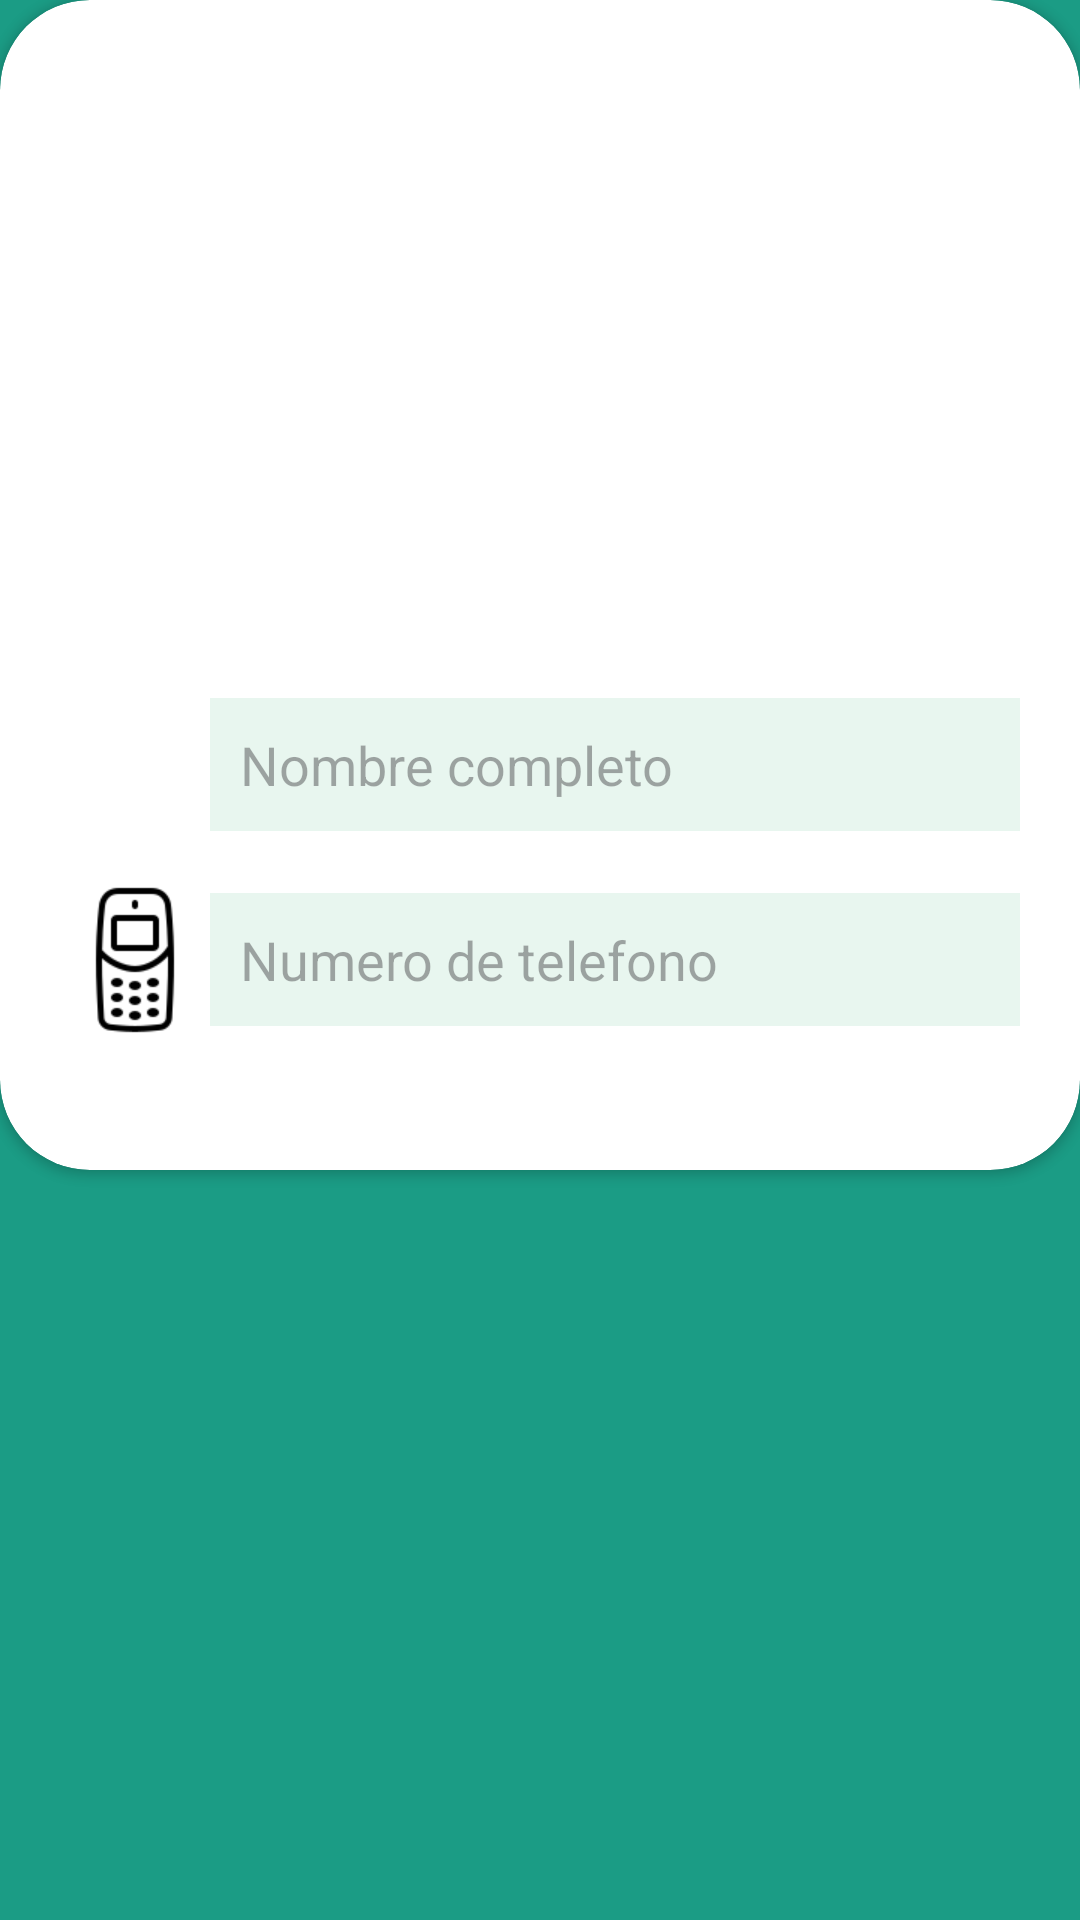

Where icons sit on this 1080px×1920px app screen, as (left=x1, top=y1, right=x2, bottom=y2):
celular: (left=95, top=887, right=175, bottom=1033)
